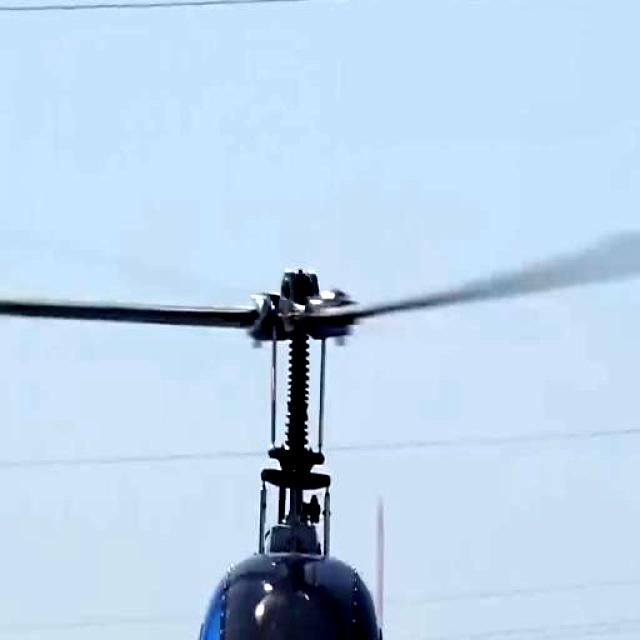drone: (0, 218, 640, 640)
